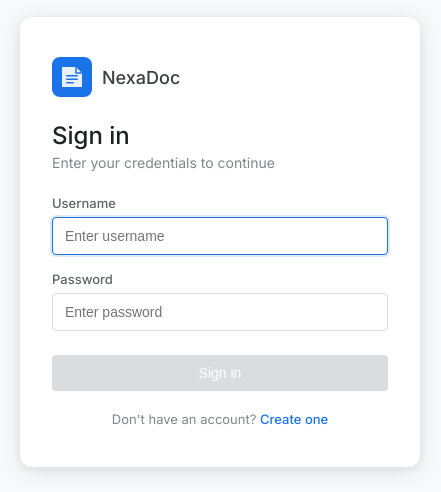
Test: LoginPage › enables submit button when both inputs are filled
This screenshot has width=441, height=492.
Type "alice" into the field with placeholder "Enter username" at (220, 236), box [52,217,388,255]
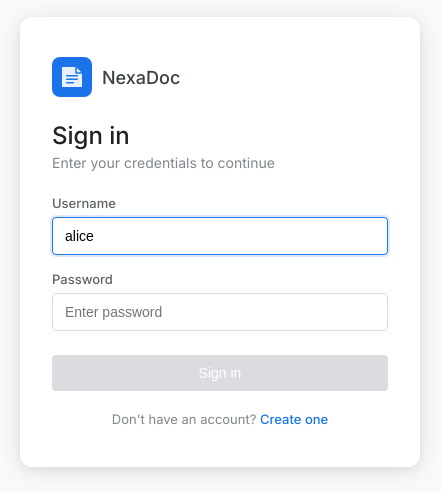
Type "pass123" into the password field with placeholder "Enter password" at (220, 312), box [52,293,388,331]
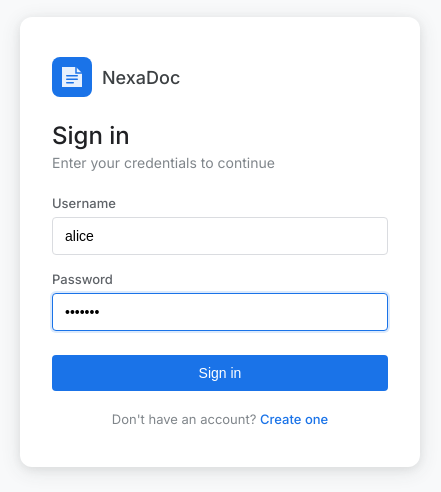
Check: the button "Sign in" is enabled, box [52,355,388,391]
